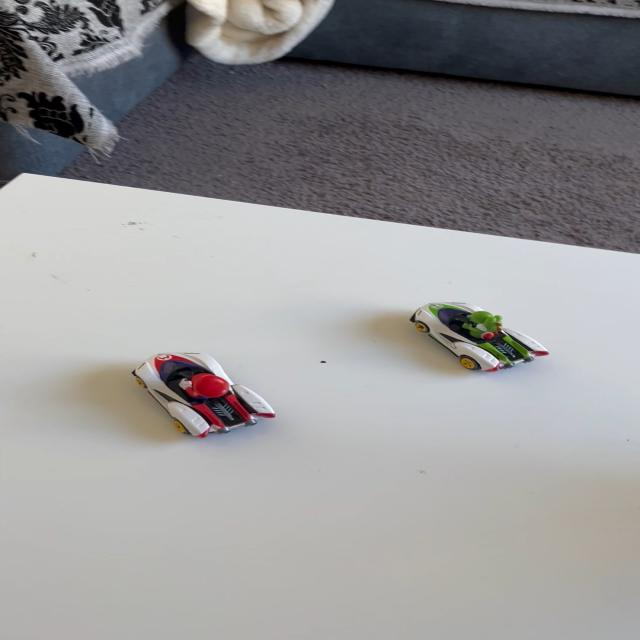mario: (118, 345, 290, 449)
yoshi: (398, 298, 560, 381)
